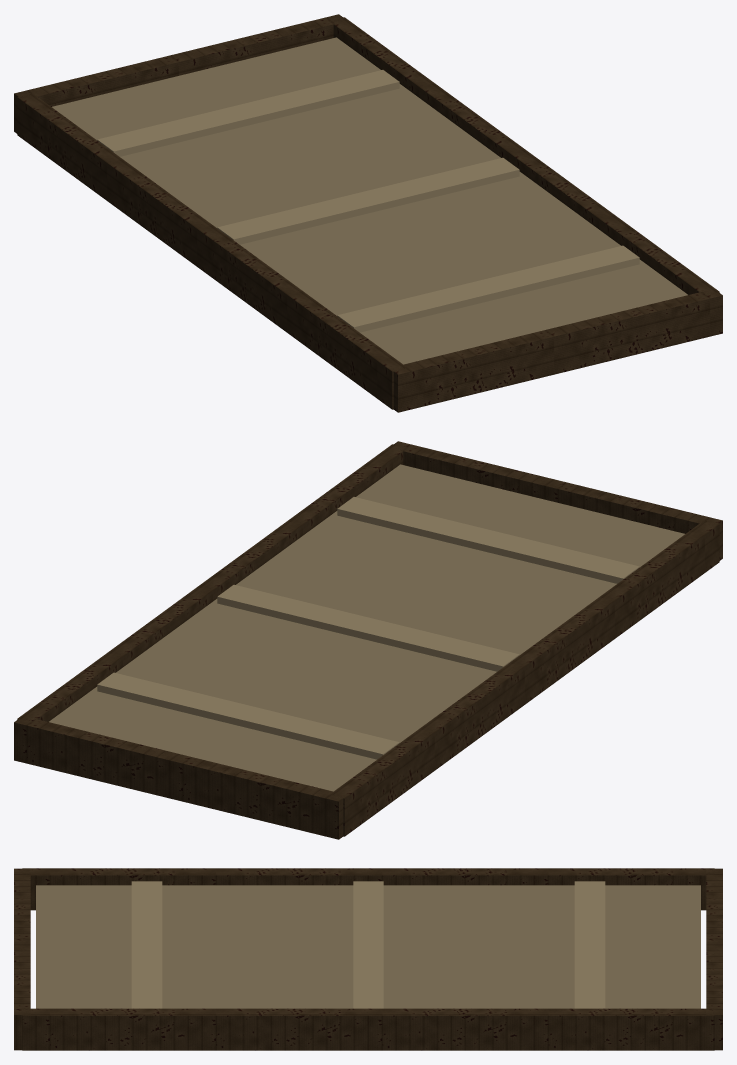
Rendered from RURAL_canteiro_abandonado.gltf.
The picture shows the model from 3 angles, top to bottom: view 1: azimuth 30°, elevation 25°; view 2: azimuth 150°, elevation 25°; view 3: azimuth 270°, elevation 25°; orthographic projection. The views are drawn at different scales.
Parts seen in each view (by area): view 1: canteiro_abandonado_SOLO, canteiro_abandonado_BORDA, canteiro_abandonado_SULCO; view 2: canteiro_abandonado_SOLO, canteiro_abandonado_BORDA, canteiro_abandonado_SULCO; view 3: canteiro_abandonado_SOLO, canteiro_abandonado_BORDA, canteiro_abandonado_SULCO.
Boxes of the visible parts, x1,y1,x2,y2 form: canteiro_abandonado_SOLO: (52,37,687,364); canteiro_abandonado_BORDA: (14,14,722,412); canteiro_abandonado_SULCO: (97,70,639,332); canteiro_abandonado_SOLO: (49,464,684,791); canteiro_abandonado_BORDA: (14,441,722,839); canteiro_abandonado_SULCO: (97,497,639,759); canteiro_abandonado_SOLO: (36,885,700,1008); canteiro_abandonado_BORDA: (14,868,722,1050); canteiro_abandonado_SULCO: (131,881,605,1008).
Bounding box in the file's own units: 2.52 × 0.28 × 5.12.
Materials: 2 (1 with a texture image).
